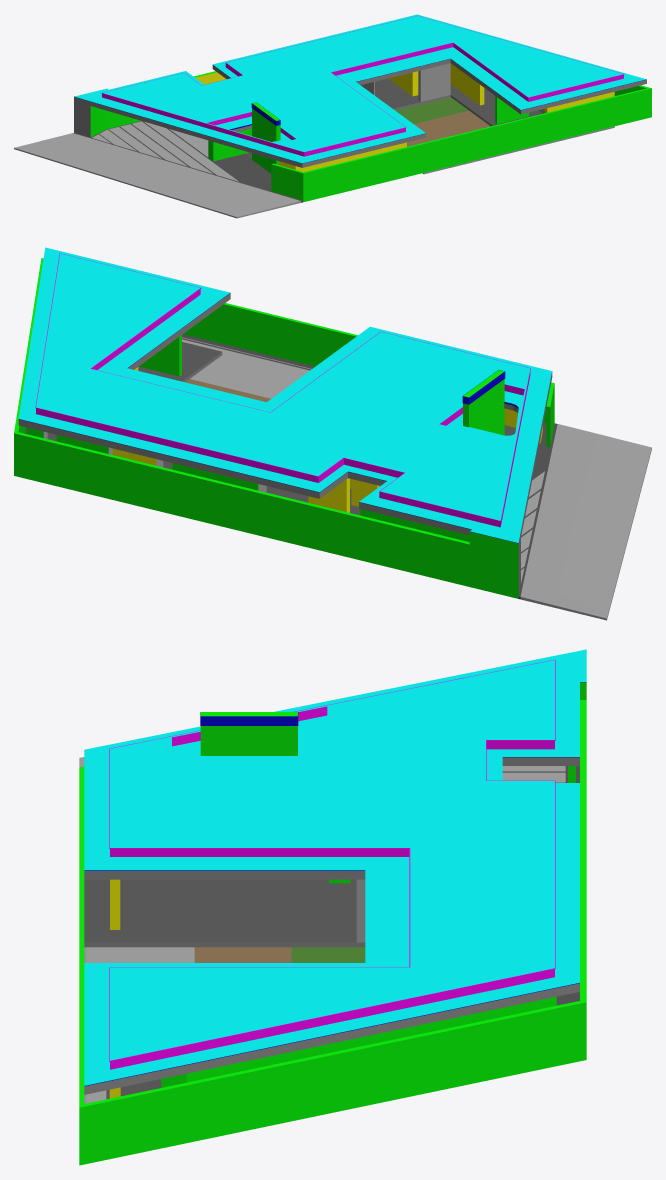
Rendered from House_base.fbx.
The picture shows the model from 3 angles, top to bottom: view 1: azimuth 30°, elevation 25°; view 2: azimuth 150°, elevation 25°; view 3: azimuth 270°, elevation 25°; orthographic projection. The views are drawn at different scales.
Visible parts, largest first — view 1: Roof_b, Walls, Roof_a, Ground_inside, Ground_outside; view 2: Roof_b, Walls, Roof_a, Ground_outside, Ground_inside, Water_Plane; view 3: Roof_b, Walls, Roof_a, Ground_inside, Water_Plane.
Boxes of the visible parts, x1,y1,x2,y2 form: Roof_b: (101,15,624,156); Walls: (194,63,651,202); Roof_a: (74,14,646,167); Ground_inside: (91,78,614,191); Ground_outside: (14,133,303,218); Roof_b: (35,253,530,527); Walls: (14,258,554,586); Roof_a: (18,247,552,598); Ground_outside: (518,423,651,620); Ground_inside: (24,334,549,582); Water_Plane: (182,339,309,398); Roof_b: (109,659,555,1069); Walls: (79,700,586,1165); Roof_a: (84,649,586,1094); Ground_inside: (84,766,579,1103); Water_Plane: (86,947,194,1103).
Bounding box in the file's own units: 4740 × 540 × 2036.
